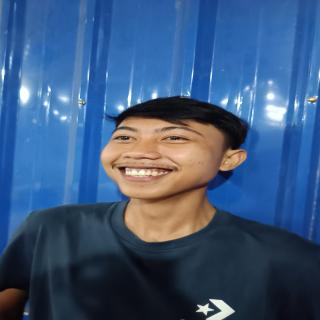Senang: (93, 109, 230, 204)
